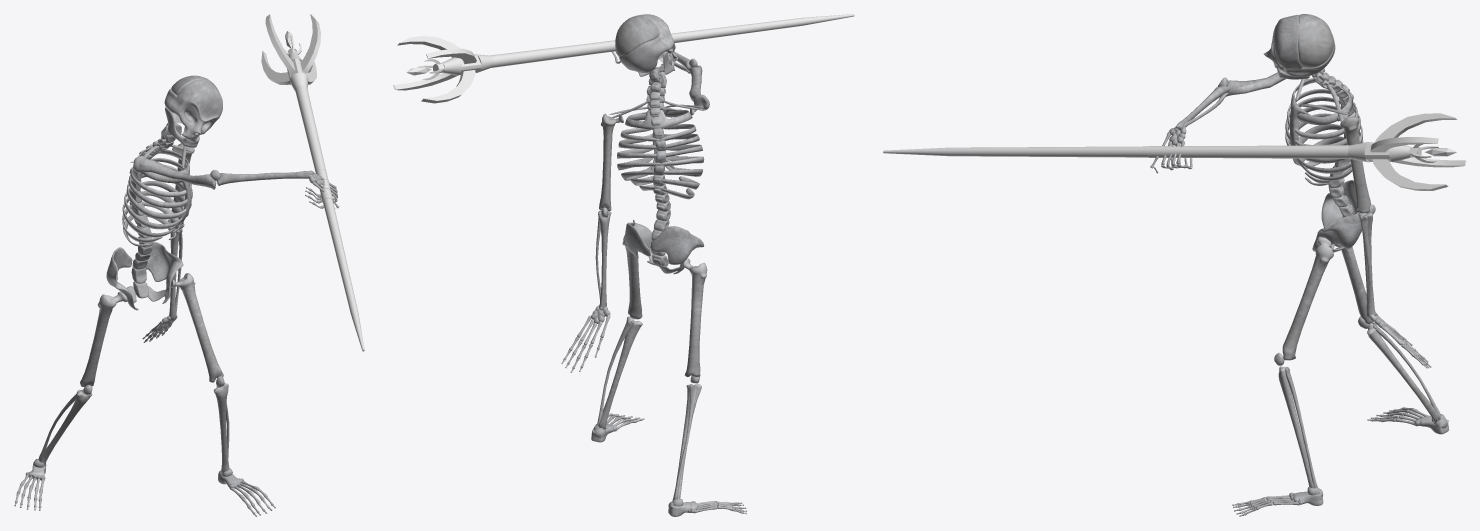
File: Staff Skeleton pose.fbx
3 views of the same model, side by side, from view 1: azimuth 30°, elevation 25°; view 2: azimuth 150°, elevation 25°; view 3: azimuth 270°, elevation 25° (orthographic). The views are drawn at different scales.
Parts seen in each view (by area): view 1: Cube.002, Cylinder.002; view 2: Cube.002, Cylinder.002; view 3: Cube.002, Cylinder.002.
Boxes of the visible parts, x1=… form: Cube.002: x1=14, y1=75, x2=339, y2=516; Cylinder.002: x1=261, y1=14, x2=364, y2=351; Cube.002: x1=561, y1=14, x2=746, y2=516; Cylinder.002: x1=393, y1=14, x2=854, y2=103; Cube.002: x1=1150, y1=14, x2=1448, y2=516; Cylinder.002: x1=883, y1=113, x2=1465, y2=190.
Bounding box in the file's own units: 148 × 187 × 209.
